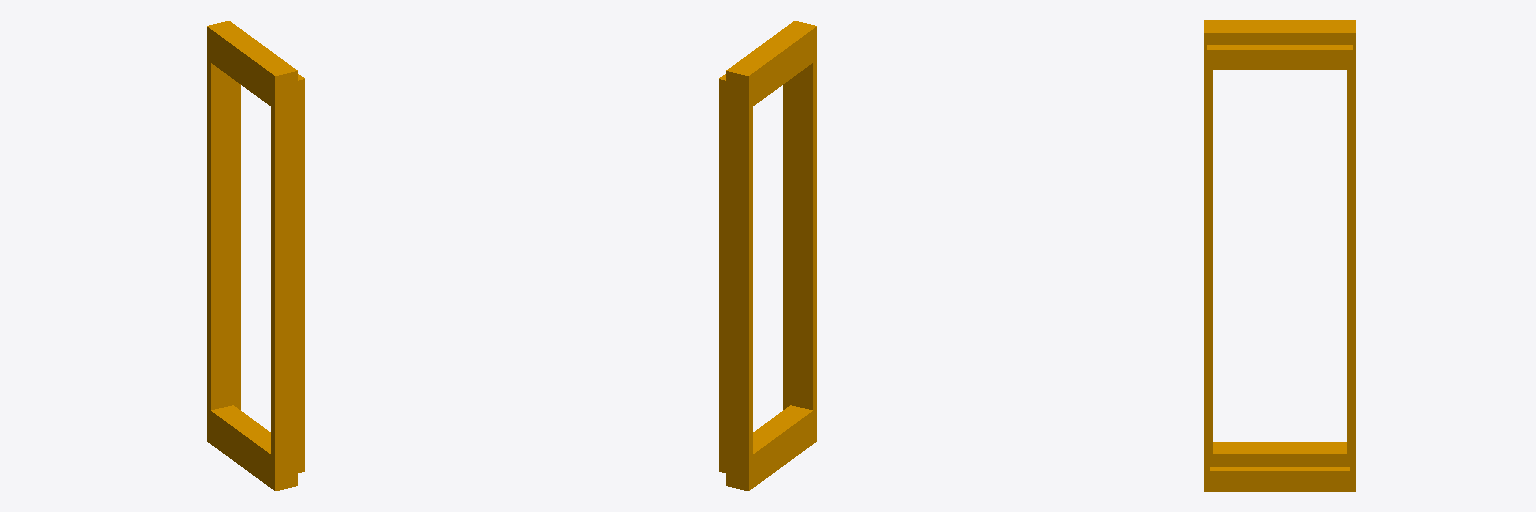
URDF robot description (window):
<?xml version="0.0" ?>
<robot name="window">
  <link name="baseLink">
    <contact>
      <lateral_friction value="1.0"/>
      <rolling_friction value="0.0"/>
      <contact_cfm value="0.0"/>
      <contact_erp value="1.0"/>
    </contact>
    <inertial>
      <origin rpy="0 0 0" xyz="0.0 0.0 0.0"/>
       <mass value="0"/>
       <inertia ixx="1" ixy="0" ixz="0" iyy="1" iyz="0" izz="1"/>
    </inertial>
    <visual>
      <origin rpy="0 0 0" xyz="0 0 0"/>
      <geometry>
        <mesh filename="window.obj" scale="1.1        0.15       0.66813184"/>
      </geometry>
       <!-- material name="yellow">
        <color rgba="1 1 0.2 1"/>
      </material -->
    </visual>
    <!-- collision>
      <origin rpy="0 0 0" xyz="0 0 0"/>
      <geometry>
        <box size="0.032 0.023 0.032"/>
      </geometry>
    </collision -->
  </link>
</robot>

--- Facts derived from the render (not from the file) ---
Views: 3 orthographic renders of the robot side by side, from view 1: azimuth 30°, elevation 25°; view 2: azimuth 150°, elevation 25°; view 3: azimuth 270°, elevation 25°.
Model window with 1 links and 0 joints (none), rooted at baseLink, posed every joint at zero.
Links seen in each view (by area): view 1: baseLink; view 2: baseLink; view 3: baseLink.
Link boxes in pixels (x1,y1,x2,y2): baseLink: [207, 21, 304, 490]; baseLink: [719, 21, 816, 490]; baseLink: [1204, 20, 1355, 491].
Size in the robot's own frame: 0.0792 by 0.3 by 1 metres.
1 mesh visuals loaded from 1 distinct referenced files (1 OBJ).